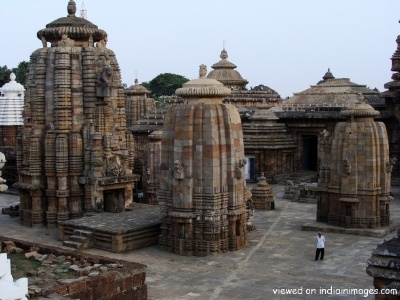amalaka: (34, 14, 116, 47), (162, 69, 237, 104), (338, 100, 382, 122)
gopuram: (19, 52, 137, 183), (154, 101, 254, 222), (328, 120, 395, 206)
